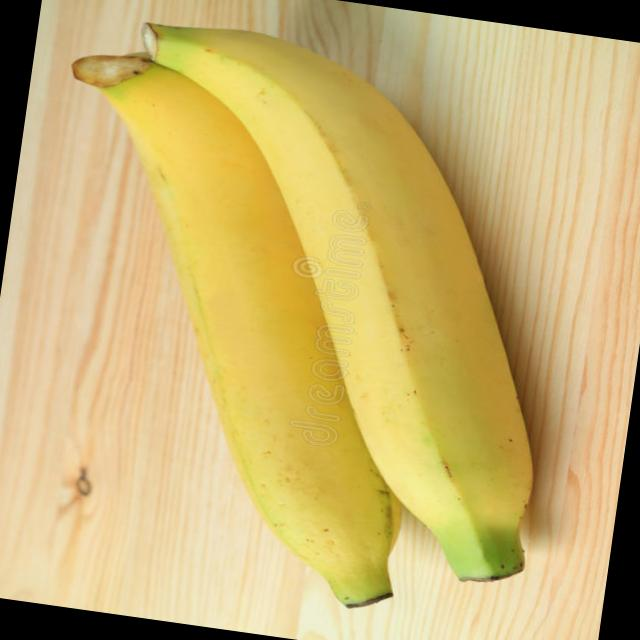banana: (66, 10, 600, 592), (0, 28, 496, 621)
